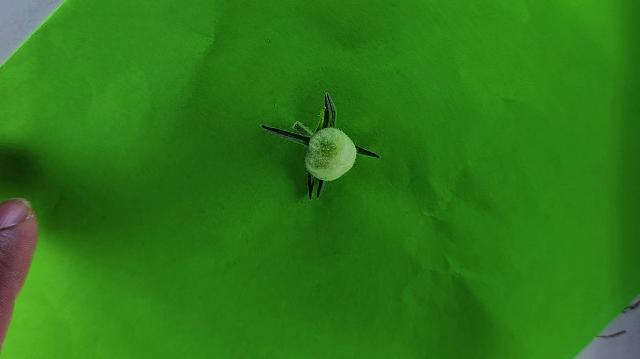Fruit Maturation: (304, 127, 357, 181)
